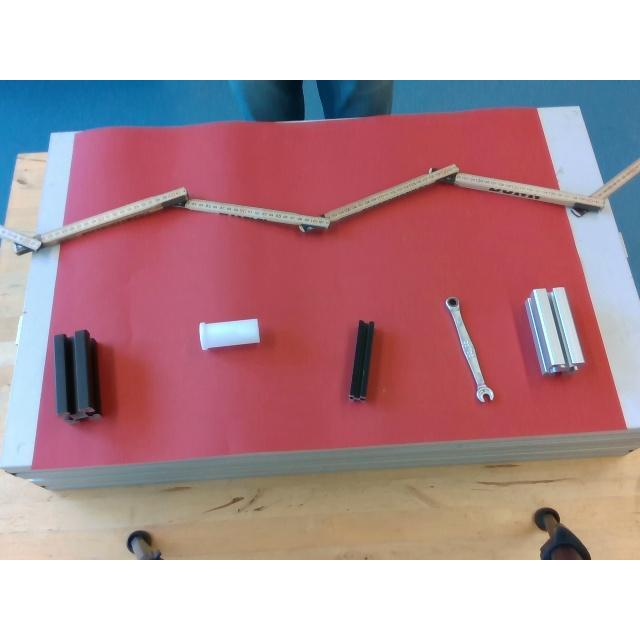F20_20_B: (351, 322, 374, 398)
S40_40_B: (51, 329, 100, 419)
S40_40_G: (525, 286, 583, 372)
Spacer: (196, 318, 260, 350)
Wrench: (444, 294, 496, 402)
